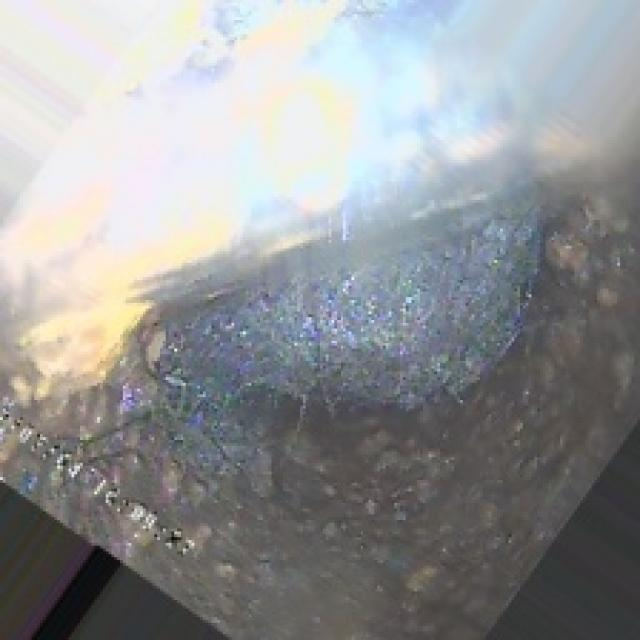Root_blockage: (146, 203, 548, 391)
